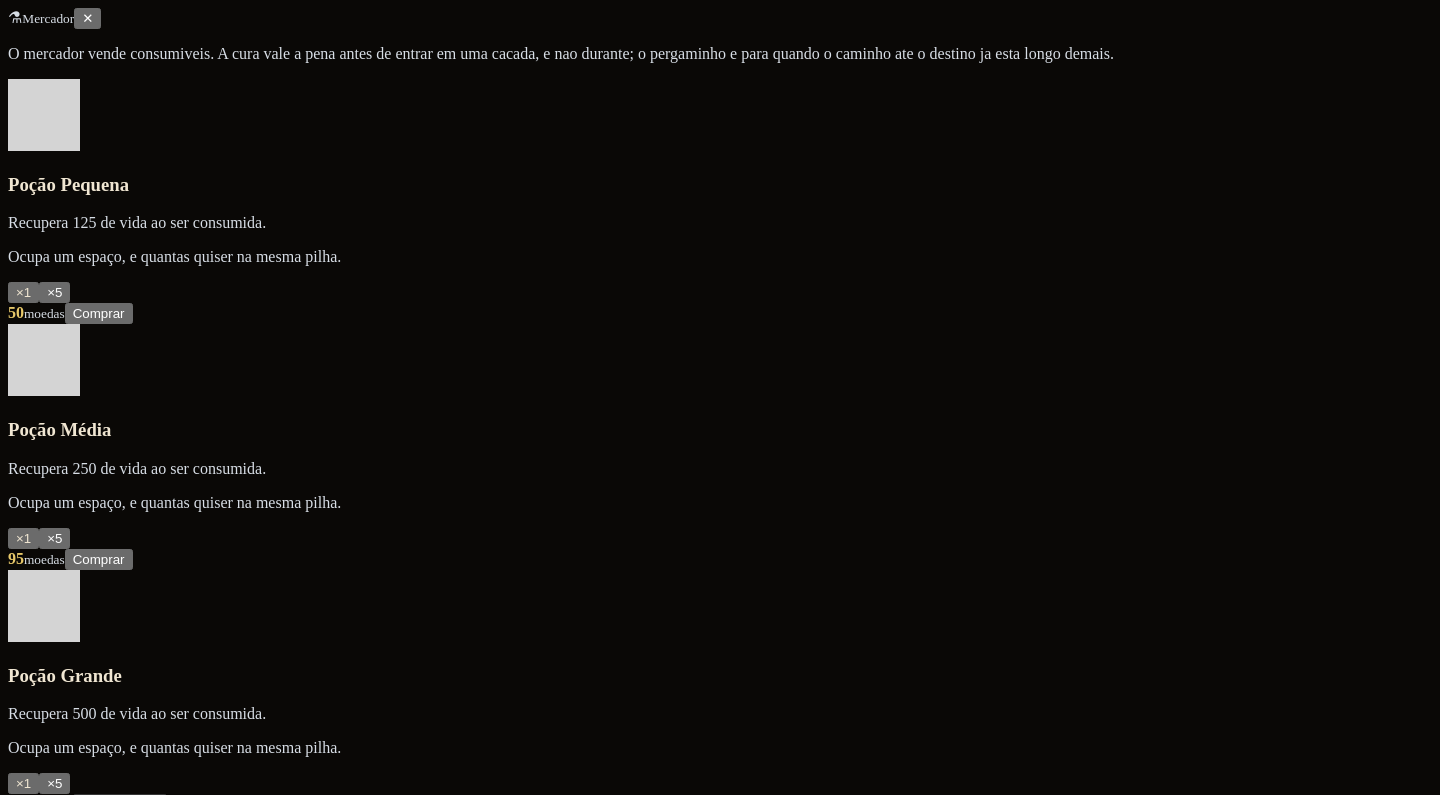
Test: o botao e o saldo › desliga no multiplo quando o saldo so paga uma
Click the button "×5" below "Recupera 125 de vida ao ser consumida." at (55, 293), box [39,282,70,303]
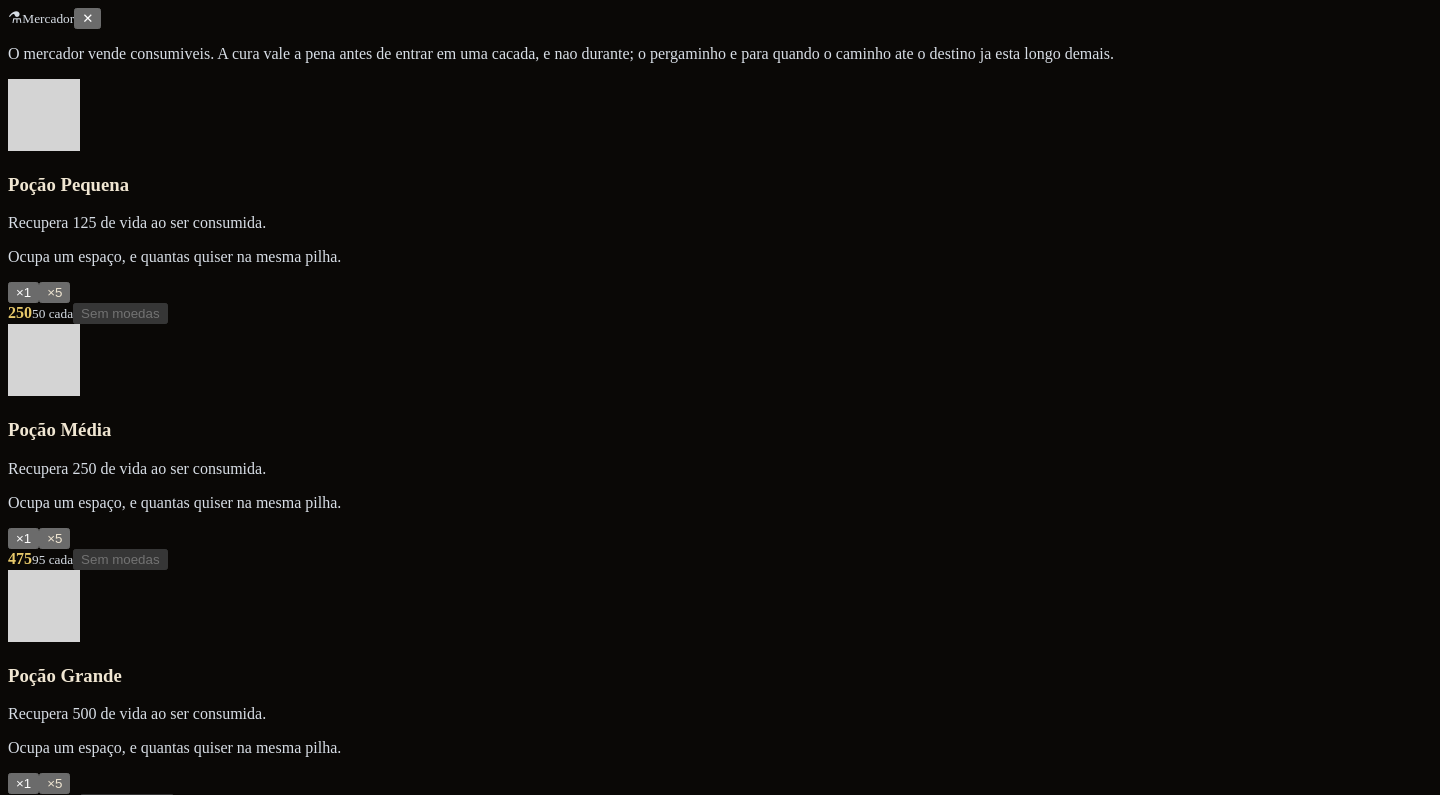
Expected: the button "Sem moedas" next to "50 cada" is disabled, [73,303,168,324]
